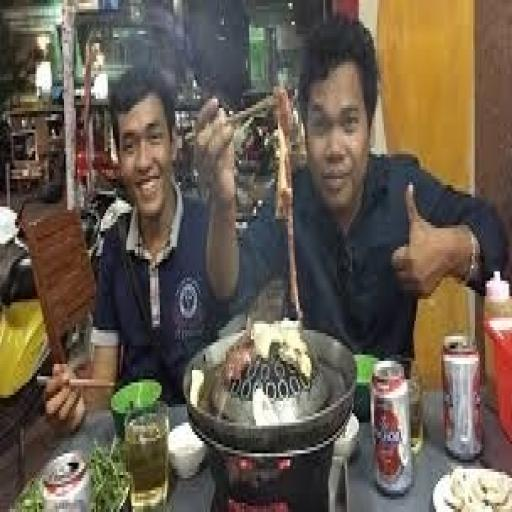eating: (12, 47, 442, 382)
